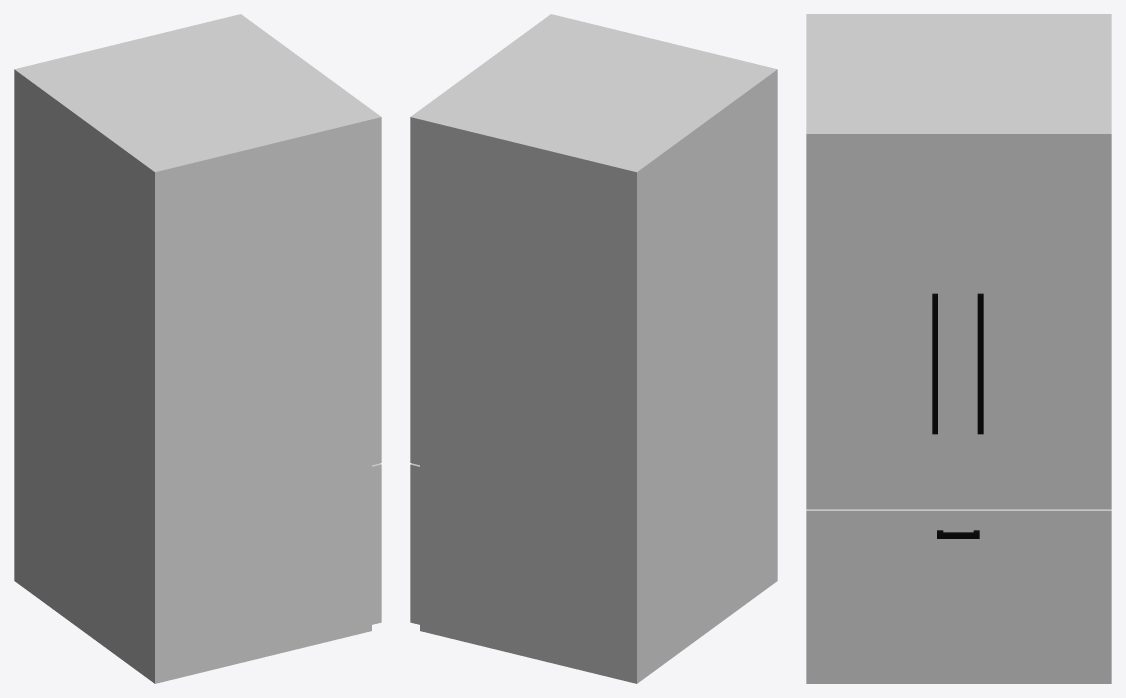
Rendered from Fridge.fbx.
3 views of the same model, side by side, from view 1: azimuth 30°, elevation 25°; view 2: azimuth 150°, elevation 25°; view 3: azimuth 270°, elevation 25° (orthographic). The views are drawn at different scales.
Parts seen in each view (by area): view 1: Cube, Left Door, Bottom door, Right Door; view 2: Cube, Right Door, Bottom door, Left Door; view 3: Right Door, Left Door, Bottom door, Cube.
Part boxes in pixels (box(x1,y1,x2,y2)): Cube: box(14, 16, 371, 683); Left Door: box(302, 65, 381, 465); Bottom door: box(372, 463, 381, 624); Right Door: box(231, 14, 310, 67); Cube: box(420, 16, 777, 683); Right Door: box(410, 65, 489, 465); Bottom door: box(410, 463, 419, 624); Left Door: box(481, 14, 560, 67); Right Door: box(958, 129, 1111, 509); Left Door: box(806, 129, 958, 509); Bottom door: box(806, 509, 1111, 682); Cube: box(806, 14, 1111, 683).
Bounding box in the file's own units: 98.69 × 207 × 103.
